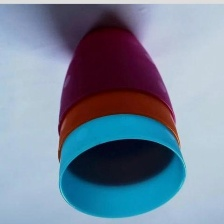glass: (48, 14, 192, 220)
